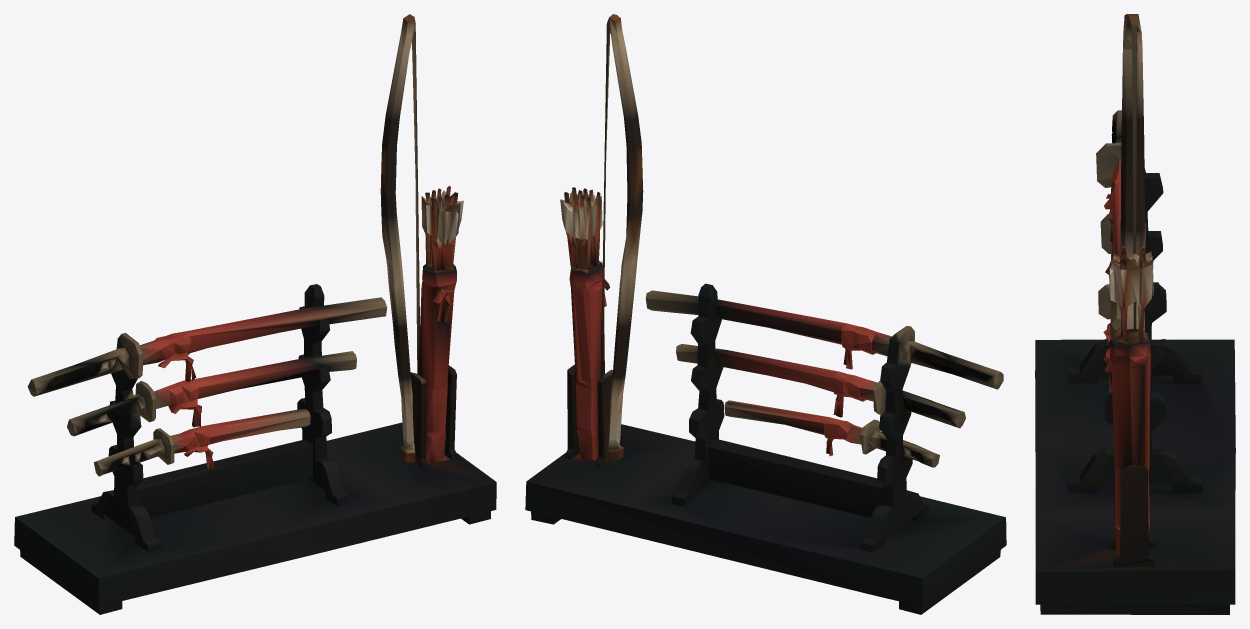
Rendered from rack-mobile.glb.
3 renders of one model, left to right at view 1: azimuth 30°, elevation 25°; view 2: azimuth 150°, elevation 25°; view 3: azimuth 270°, elevation 25°, orthographic. The views are drawn at different scales.
Parts seen in each view (by area): view 1: geometry_0; view 2: geometry_0; view 3: geometry_0.
Boxes of the visible parts, x1,y1,x2,y2 form: geometry_0: (14, 14, 496, 614); geometry_0: (525, 14, 1006, 614); geometry_0: (1035, 14, 1235, 614).
Bounding box in the file's own units: 1.49 × 1.6 × 0.5038.
